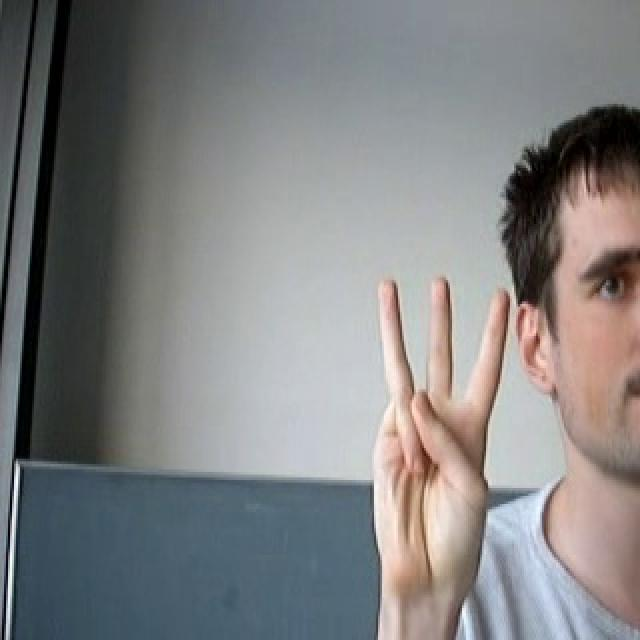W: (354, 264, 517, 604)
